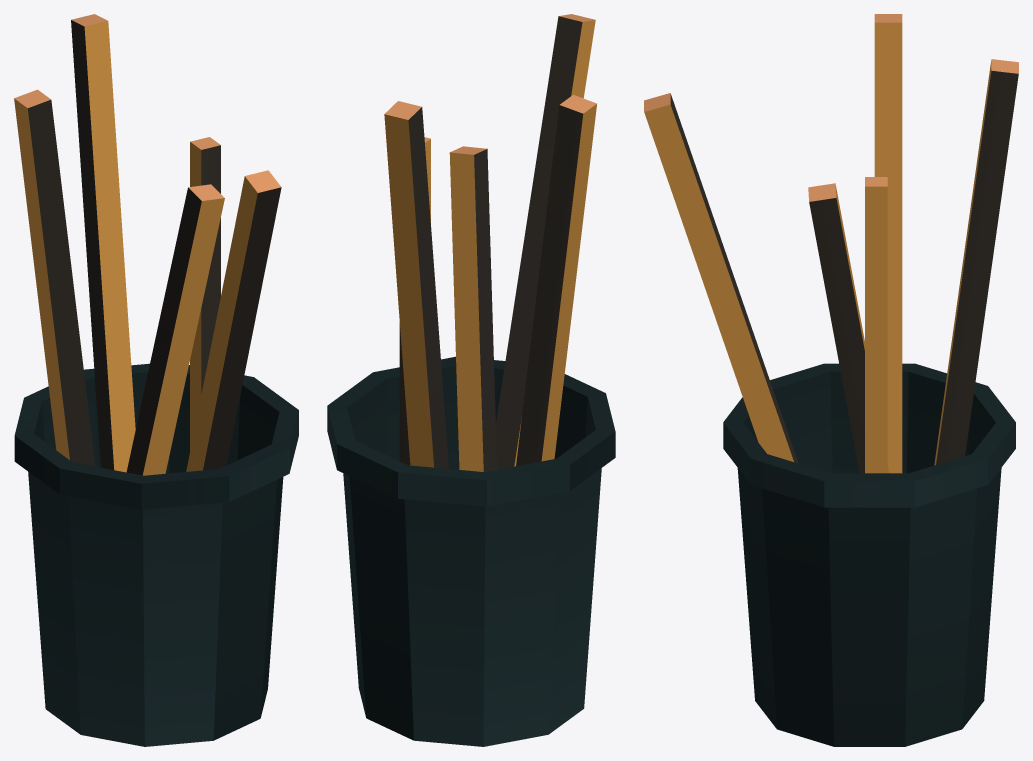
File: SM_Lapicero.fbx
3 renders of one model, left to right at view 1: azimuth 30°, elevation 25°; view 2: azimuth 150°, elevation 25°; view 3: azimuth 270°, elevation 25°, orthographic.
Visible parts, largest first — view 1: Vaso, Lapiz, Lapiz.003, Lapiz.001, Lapiz.002, Lapiz.004; view 2: Vaso, Lapiz, Lapiz.003, Lapiz.002, Lapiz.001, Lapiz.004; view 3: Vaso, Lapiz.001, Lapiz, Lapiz.003, Lapiz.002, Lapiz.004.
Part boxes in pixels (left/top/right/bottom): Vaso: left=14, top=363, right=298, bottom=746; Lapiz: left=71, top=14, right=135, bottom=472; Lapiz.003: left=14, top=89, right=95, bottom=466; Lapiz.001: left=186, top=170, right=281, bottom=471; Lapiz.002: left=126, top=184, right=224, bottom=475; Lapiz.004: left=190, top=137, right=220, bottom=451; Vaso: left=327, top=356, right=615, bottom=746; Lapiz: left=384, top=101, right=448, bottom=468; Lapiz.003: left=516, top=94, right=596, bottom=466; Lapiz.002: left=449, top=146, right=497, bottom=472; Lapiz.001: left=496, top=14, right=595, bottom=469; Lapiz.004: left=399, top=137, right=430, bottom=465; Vaso: left=723, top=363, right=1015, bottom=746; Lapiz.001: left=644, top=93, right=798, bottom=463; Lapiz: left=934, top=59, right=1018, bottom=465; Lapiz.003: left=874, top=14, right=902, bottom=473; Lapiz.002: left=808, top=183, right=889, bottom=473; Lapiz.004: left=865, top=177, right=887, bottom=473.
Size of the model in its own units: 10.55 by 25.92 by 13.8.
